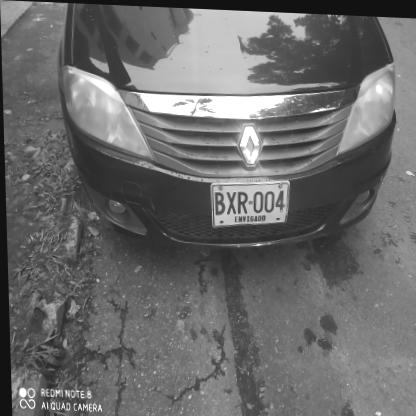placa: (205, 174, 292, 229)
